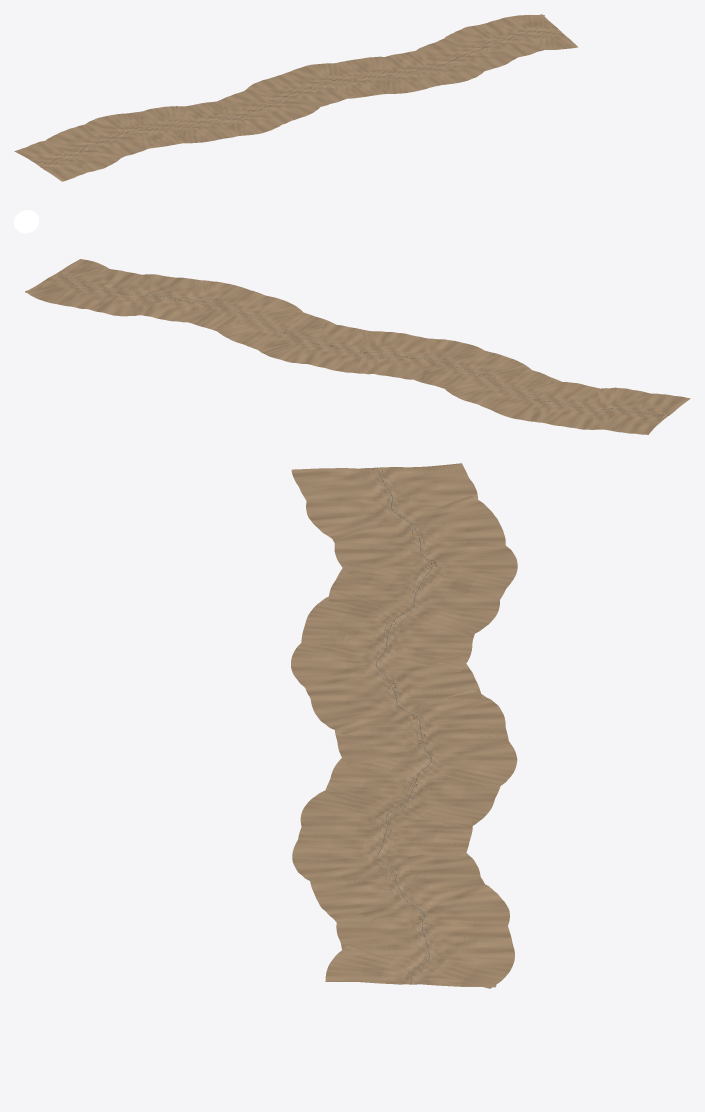
Rendered from joshuatree.glb.
3 renders of one model, top to bottom at view 1: azimuth 30°, elevation 25°; view 2: azimuth 150°, elevation 25°; view 3: azimuth 270°, elevation 25°, orthographic. The views are drawn at different scales.
Visible parts, largest first — view 1: MojaveSand_086, MojaveSand_018, MojaveSand_067, MojaveSand_056, MojaveSand_037, MojaveSand_048, MojaveSand_007, MojaveSand_075, MojaveSand_078, MojaveSand_076, MojaveSand_026, MojaveSand_045 (+13 smaller); view 2: Sun, MojaveSand_067, MojaveSand_056, MojaveSand_018, MojaveSand_086, MojaveSand_075, MojaveSand_037, MojaveSand_048, MojaveSand_007, MojaveSand_026, MojaveSand_027, MojaveSand_065 (+18 smaller); view 3: MojaveSand_037, MojaveSand_018, MojaveSand_056, MojaveSand_007, MojaveSand_094, MojaveSand_095, MojaveSand_086, MojaveSand_097, MojaveSand_057, MojaveSand_026, MojaveSand_067, MojaveSand_075 (+70 smaller).
Part boxes in pixels (x1=…): MojaveSand_086: x1=448, y1=28, x2=497, y2=47; MojaveSand_018: x1=90, y1=115, x2=132, y2=137; MojaveSand_067: x1=389, y1=69, x2=411, y2=93; MojaveSand_056: x1=295, y1=64, x2=333, y2=87; MojaveSand_037: x1=232, y1=112, x2=267, y2=135; MojaveSand_048: x1=247, y1=81, x2=297, y2=99; MojaveSand_007: x1=66, y1=149, x2=111, y2=170; MojaveSand_075: x1=433, y1=61, x2=471, y2=83; MojaveSand_078: x1=415, y1=45, x2=468, y2=65; MojaveSand_076: x1=434, y1=60, x2=483, y2=78; MojaveSand_026: x1=149, y1=106, x2=176, y2=130; MojaveSand_045: x1=261, y1=96, x2=312, y2=118; Sun: x1=14, y1=210, x2=39, y2=233; MojaveSand_067: x1=242, y1=300, x2=300, y2=321; MojaveSand_056: x1=274, y1=336, x2=316, y2=363; MojaveSand_018: x1=508, y1=394, x2=546, y2=421; MojaveSand_086: x1=108, y1=288, x2=134, y2=316; MojaveSand_075: x1=199, y1=282, x2=241, y2=309; MojaveSand_037: x1=430, y1=341, x2=477, y2=366; MojaveSand_048: x1=344, y1=345, x2=368, y2=374; MojaveSand_007: x1=611, y1=388, x2=643, y2=415; MojaveSand_026: x1=454, y1=379, x2=507, y2=402; MojaveSand_027: x1=444, y1=376, x2=514, y2=395; MojaveSand_065: x1=216, y1=317, x2=286, y2=336; MojaveSand_037: x1=291, y1=649, x2=405, y2=670; MojaveSand_018: x1=402, y1=550, x2=517, y2=570; MojaveSand_056: x1=402, y1=748, x2=517, y2=768; MojaveSand_007: x1=306, y1=506, x2=421, y2=524; MojaveSand_094: x1=399, y1=950, x2=514, y2=968; MojaveSand_095: x1=398, y1=956, x2=510, y2=985; MojaveSand_086: x1=394, y1=890, x2=508, y2=915; MojaveSand_097: x1=328, y1=951, x2=441, y2=977; MojaveSand_057: x1=401, y1=760, x2=514, y2=784; MojaveSand_026: x1=384, y1=603, x2=499, y2=621; MojaveSand_067: x1=302, y1=793, x2=416, y2=818; MojaveSand_075: x1=292, y1=848, x2=407, y2=866.
Size of the model in its own units: 26585 by 921 by 6176.
